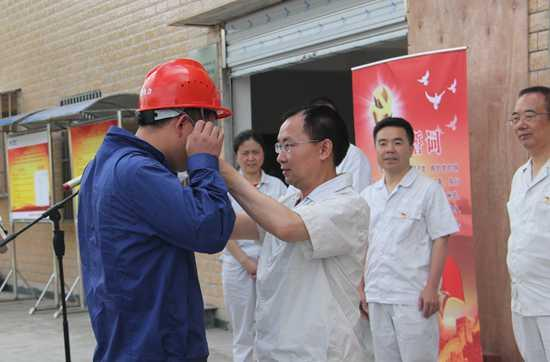helmet: (134, 58, 230, 118)
